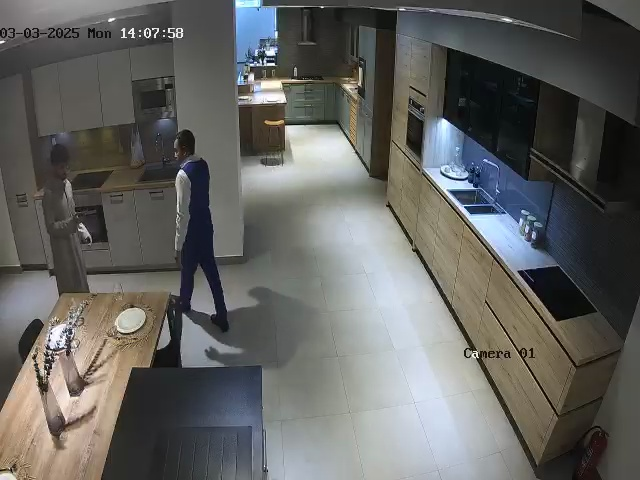employee: (172, 129, 230, 333)
male: (35, 144, 92, 296)
